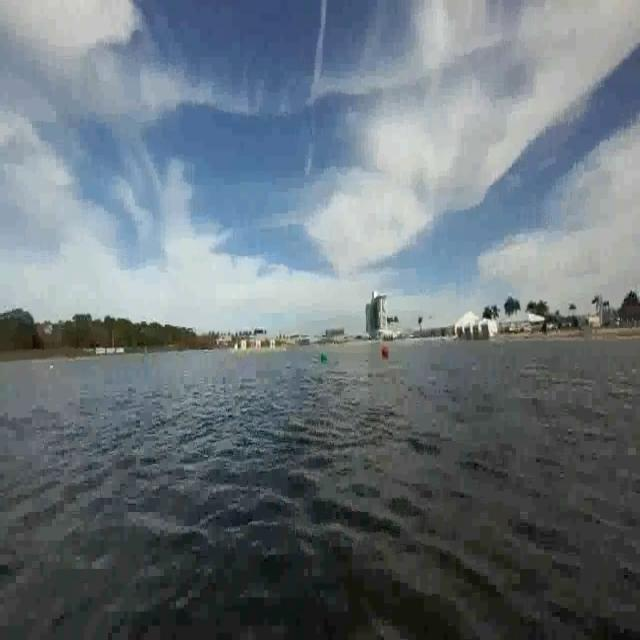green-buoy: (320, 351, 327, 363)
red-buoy: (381, 344, 390, 361)
